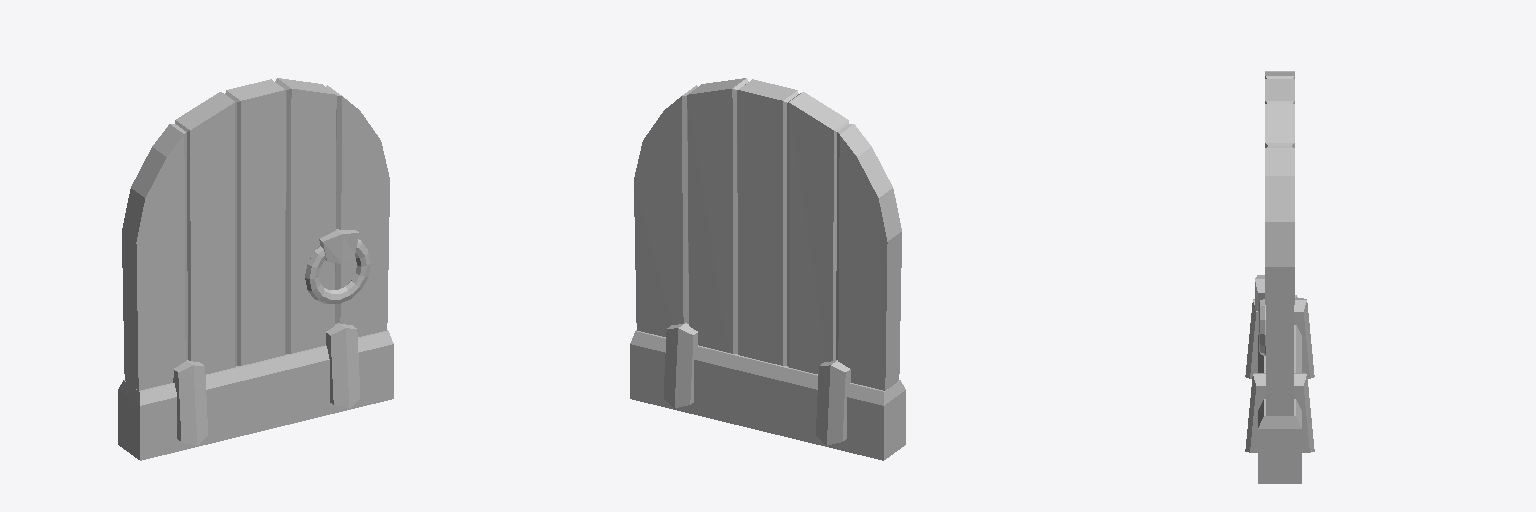
File: door.obj
3 renders of one model, left to right at view 1: azimuth 30°, elevation 25°; view 2: azimuth 150°, elevation 25°; view 3: azimuth 270°, elevation 25°, orthographic.
Parts seen in each view (by area): view 1: door_Cube.2624; view 2: door_Cube.2624; view 3: door_Cube.2624.
Boxes of the visible parts, <box> form: door_Cube.2624: <box>118,78,393,460</box>; door_Cube.2624: <box>630,78,905,460</box>; door_Cube.2624: <box>1245,71,1314,483</box>.
Bounding box in the file's own units: 2 × 2.5 × 0.4738.